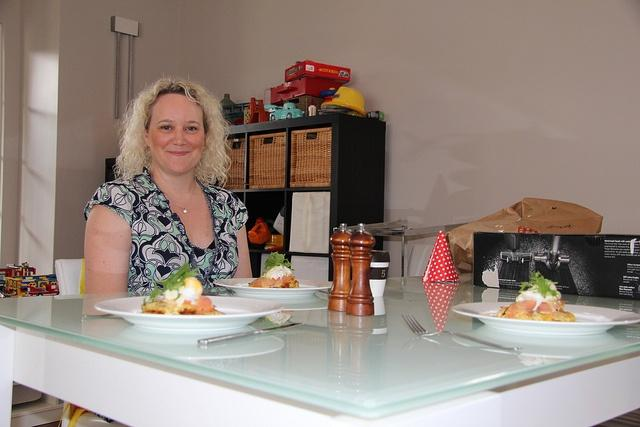Rak: (241, 110, 386, 283)
